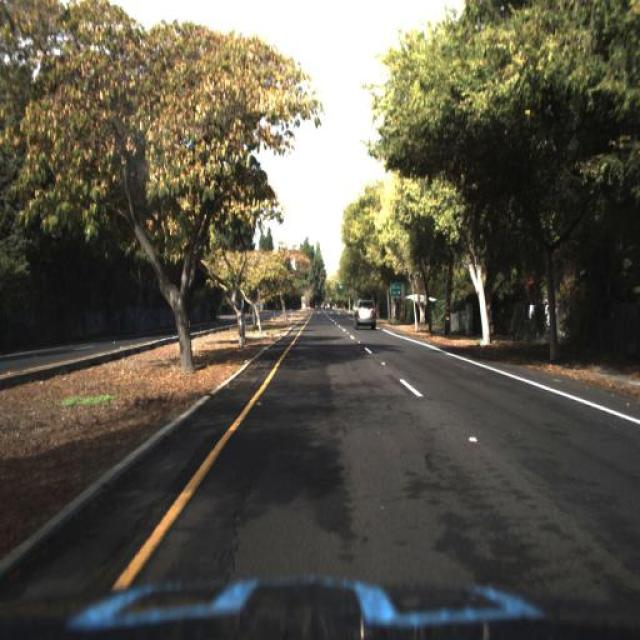car: (353, 296, 378, 332)
